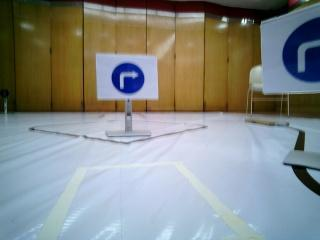right: (262, 27, 320, 91), (95, 55, 156, 99)
